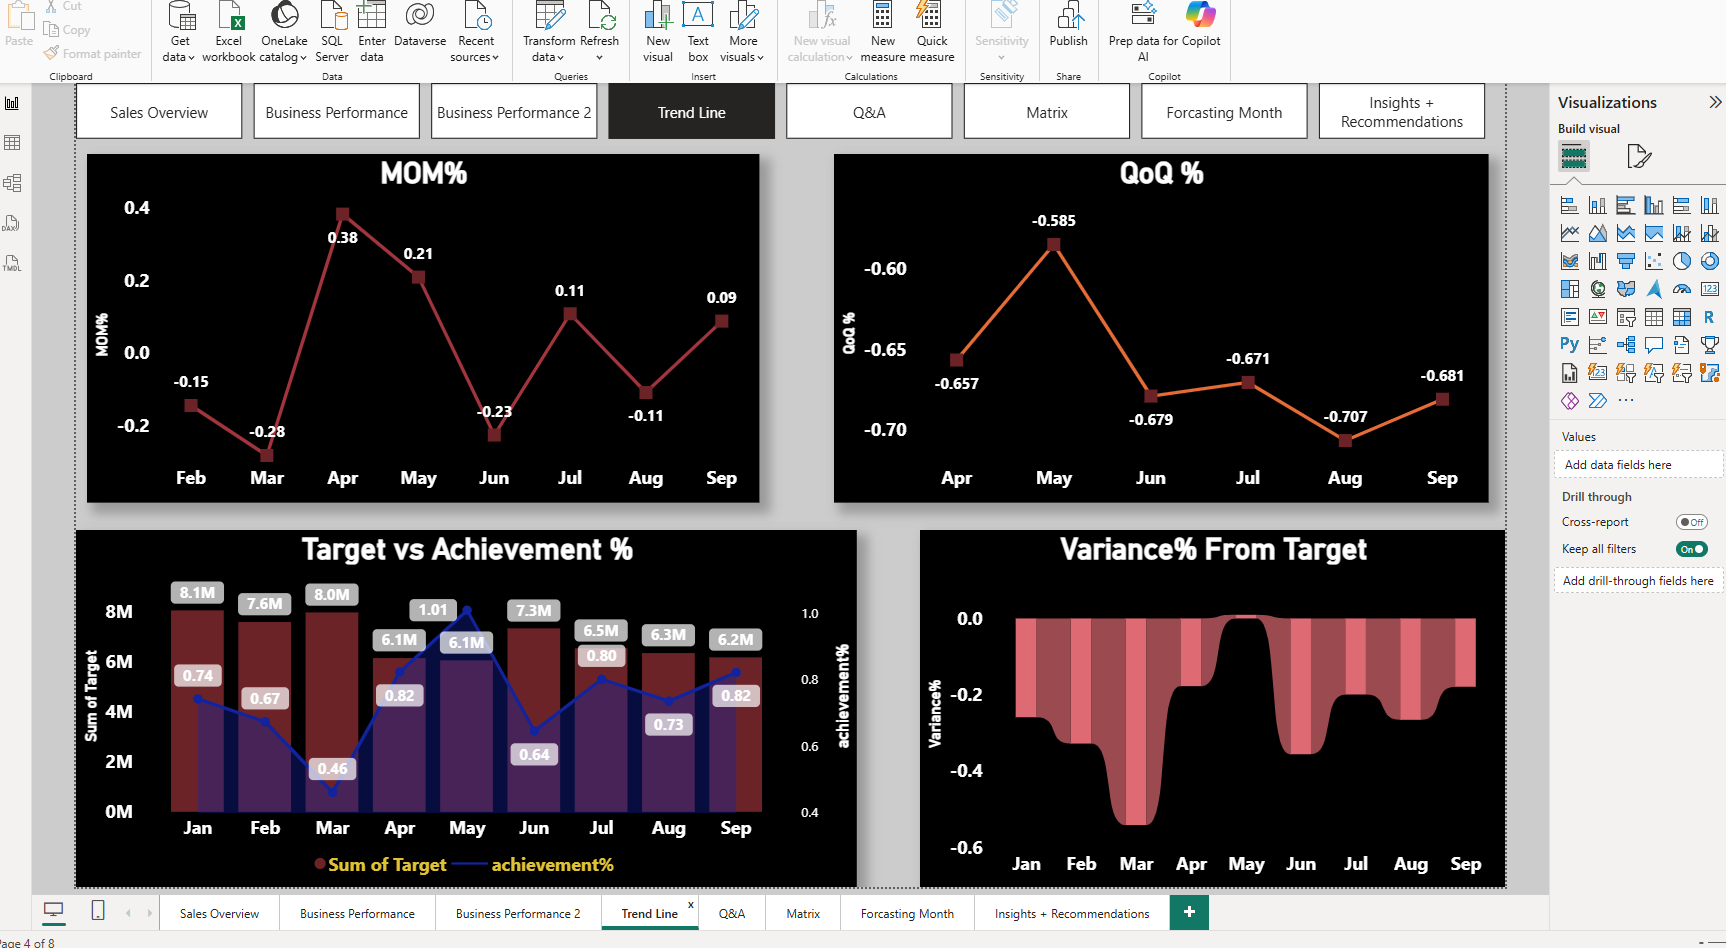

This screenshot's page, from the dashboard's own definition file:
{"tool":"powerbi","page":{"name":"Trend Line","canvas":[1280,720],"ordinal":3},"visuals":[{"type":"lineChart","title":"MOM%","fields":{"Category":["Calender.Month Name"],"Y":["Fact Table.MOM%"]},"box":[9.8,63.6,601.6,311.8],"z":0},{"type":"lineChart","title":"QoQ % ","fields":{"Category":["Calender.Month Name"],"Y":["Fact Table.QoQ %"]},"box":[678.7,63.6,585.7,311.8],"z":1000},{"type":"ribbonChart","title":"Variance% From Target","fields":{"Y":["Fact Table.Variance%"],"Category":["Calender.Month Name"]},"box":[755.7,399.9,524.6,320.4],"z":2000},{"type":"lineStackedColumnComboChart","title":"Target vs Achievement % ","fields":{"Category":["Calender.Month Name"],"Y":["Sum(Fact Table.Target)"],"Y2":["Fact Table.achievement%"]},"box":[0,399.9,699.5,320.4],"z":3000},{"type":"pageNavigator","box":[0,0,1264.4,50.1],"z":3001}]}

Visuals, with their boxes on the page's 1280x720 design canvas (x1, y1, x2, y2). These are canvas units, not pixel positions in the 1726x948 screenshot, which may show the page scaled, cropped or inside an application window:
"MOM%" lineChart: x1=10, y1=64, x2=611, y2=375
"QoQ % " lineChart: x1=679, y1=64, x2=1264, y2=375
"Variance% From Target" ribbonChart: x1=756, y1=400, x2=1280, y2=720
"Target vs Achievement % " lineStackedColumnComboChart: x1=0, y1=400, x2=700, y2=720
pageNavigator: x1=0, y1=0, x2=1264, y2=50
